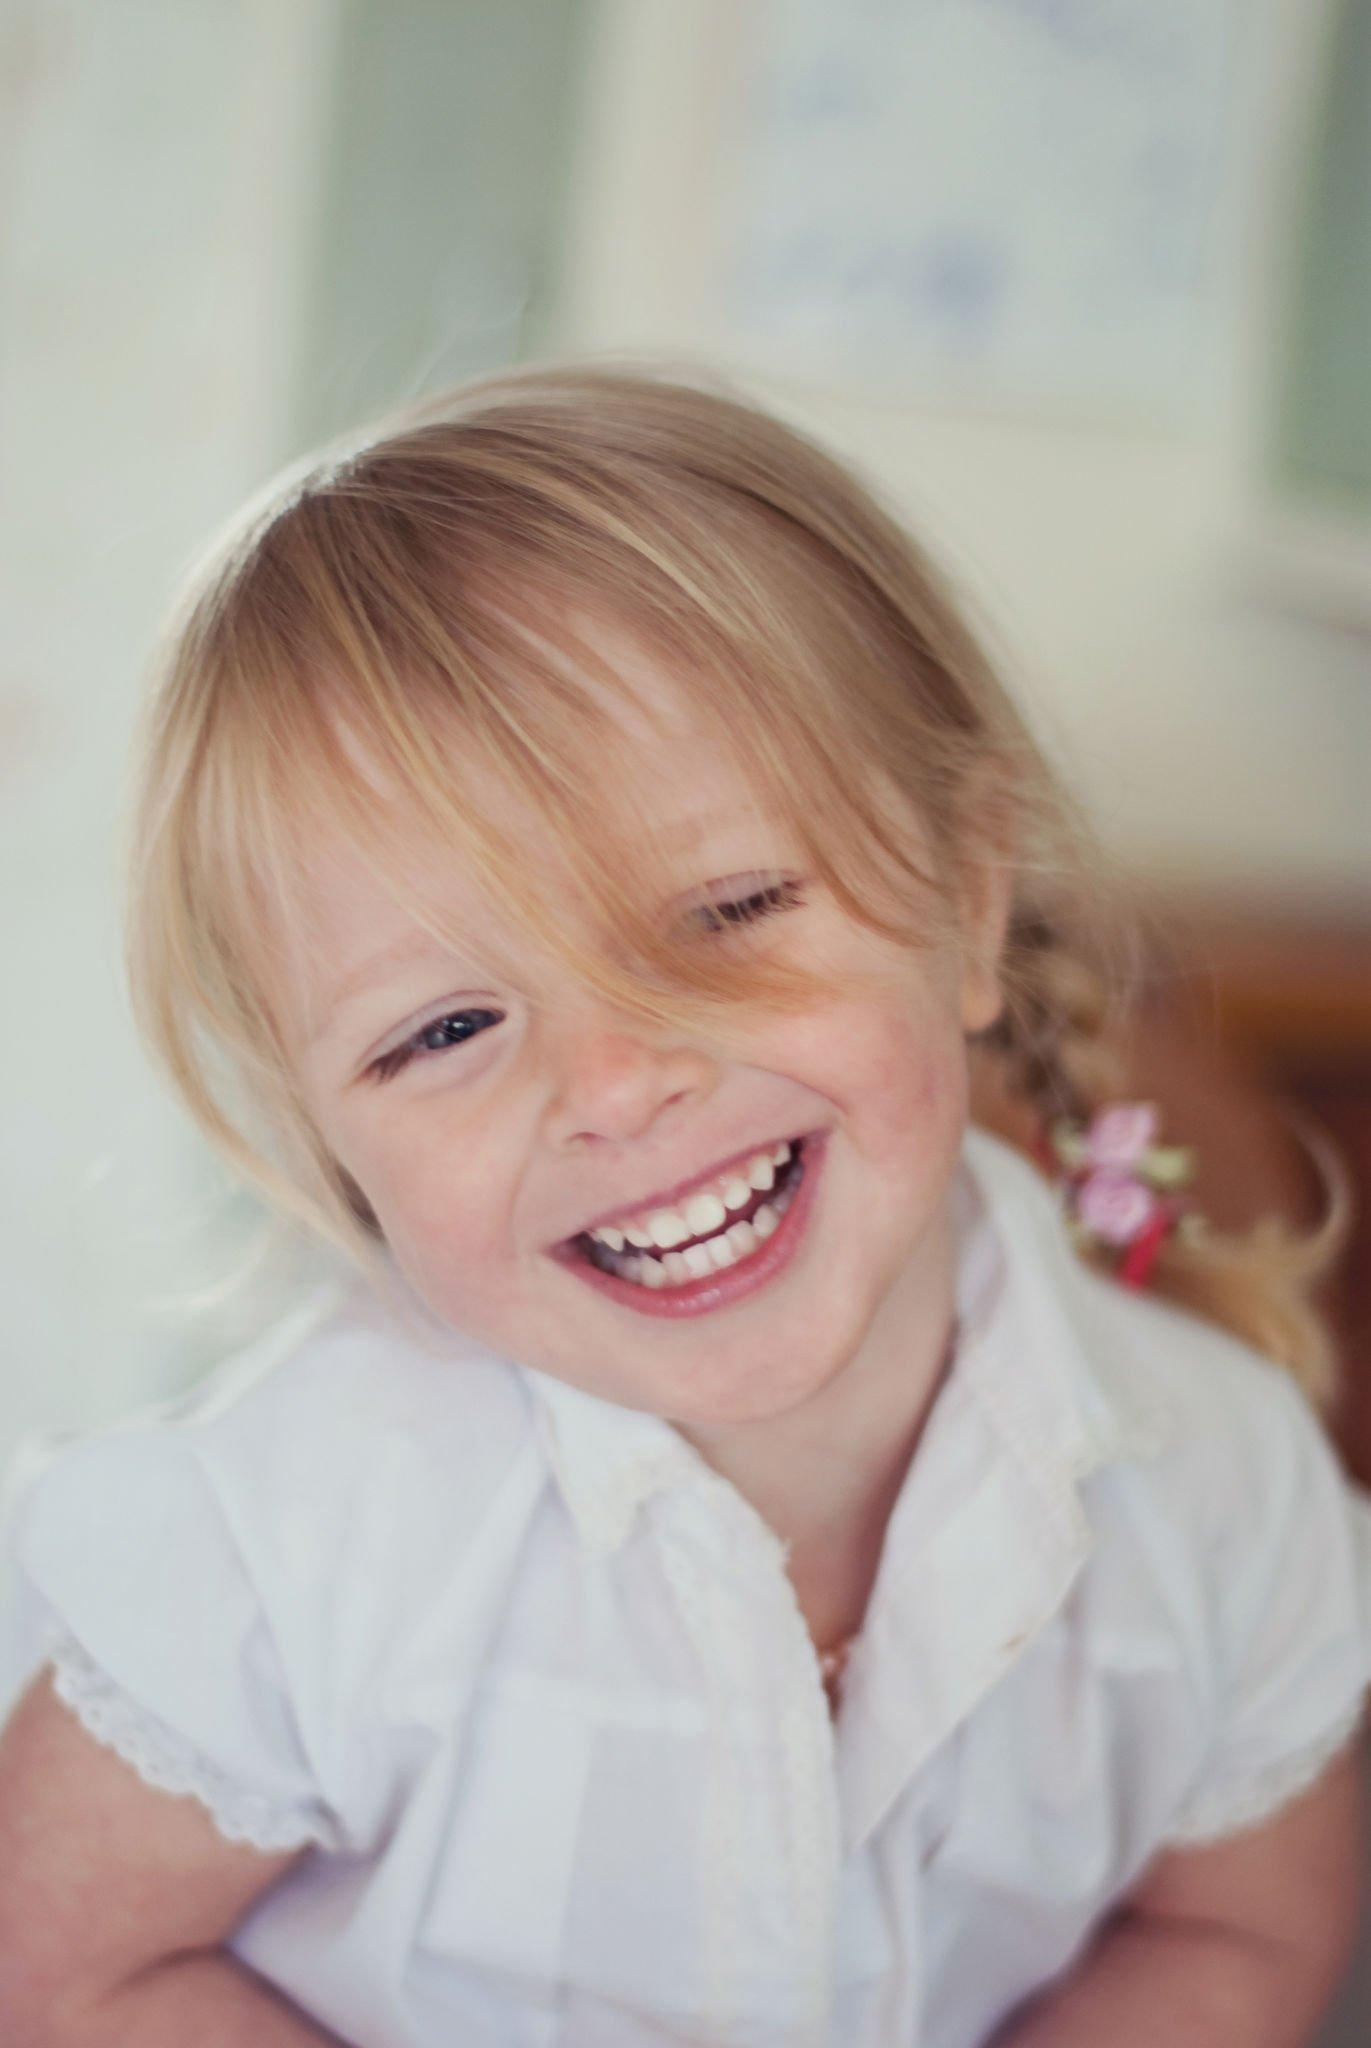Healthy: (112, 431, 1088, 1470)
